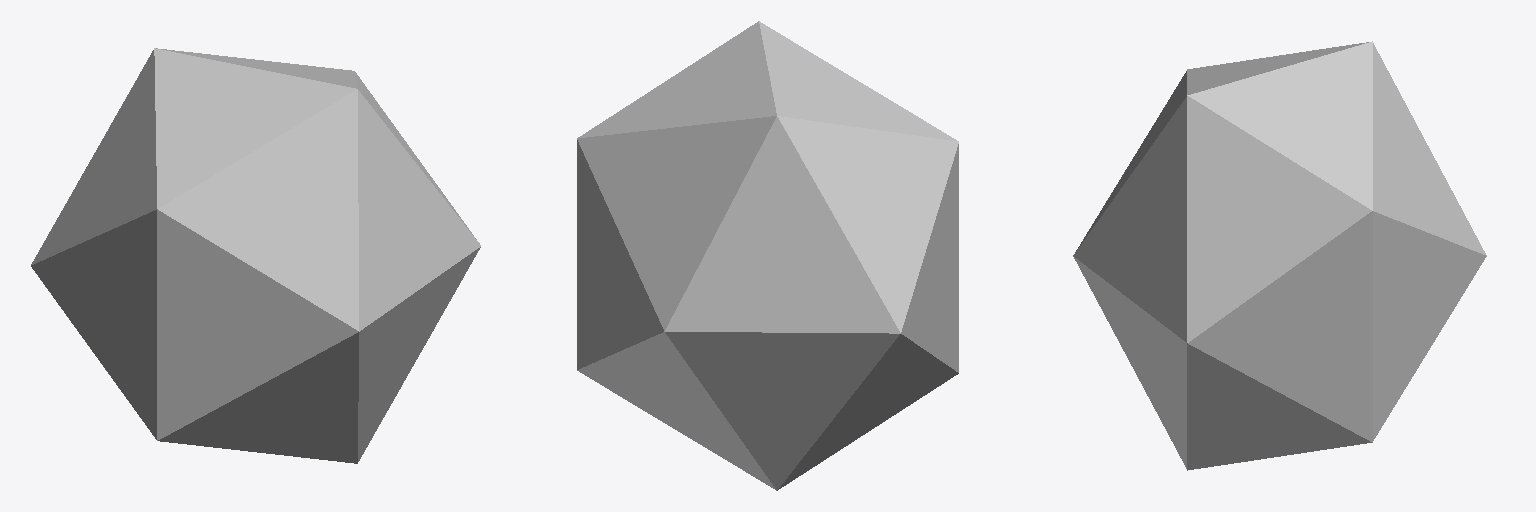
Rendered from ico.obj.
3 views of the same model, side by side, from view 1: azimuth 30°, elevation 25°; view 2: azimuth 150°, elevation 25°; view 3: azimuth 270°, elevation 25° (orthographic).
Size of the model in its own units: 1 by 1 by 1.